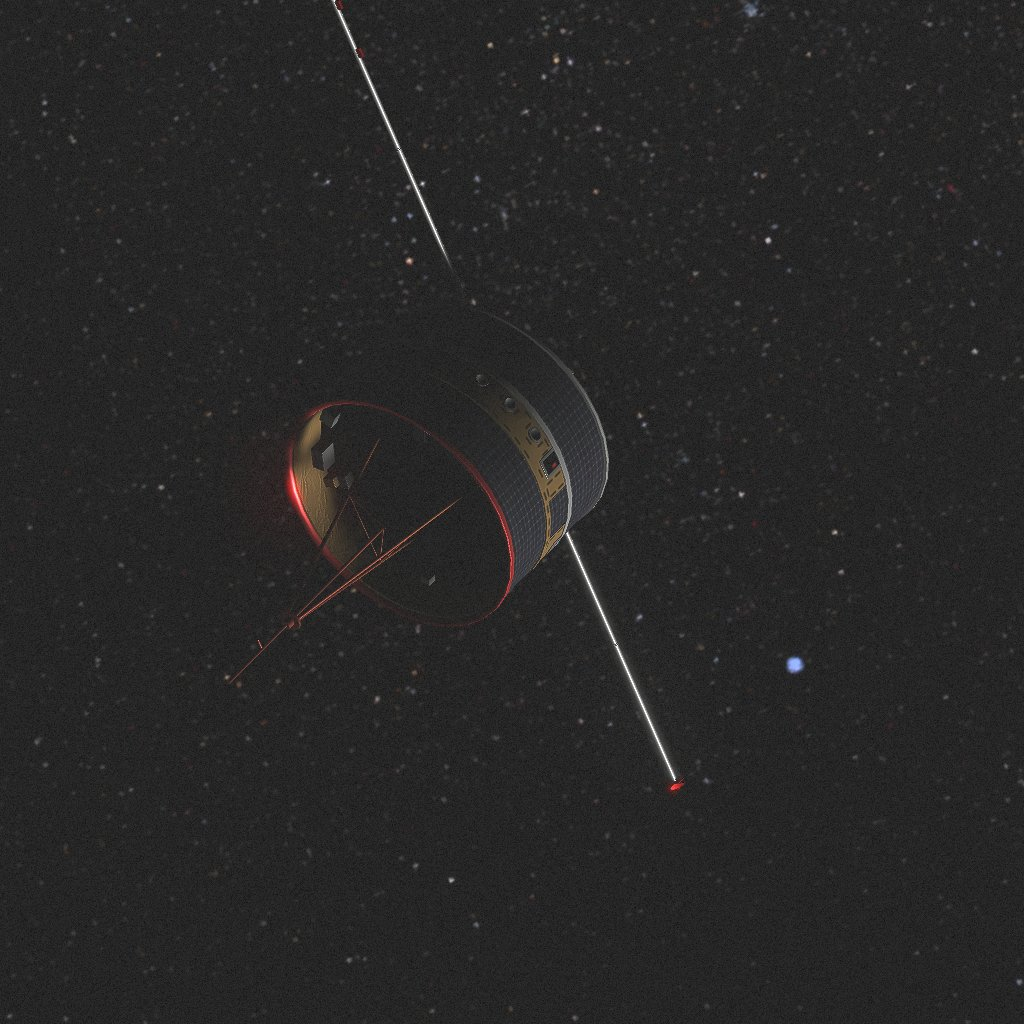double_star: (227, 0, 684, 790)
